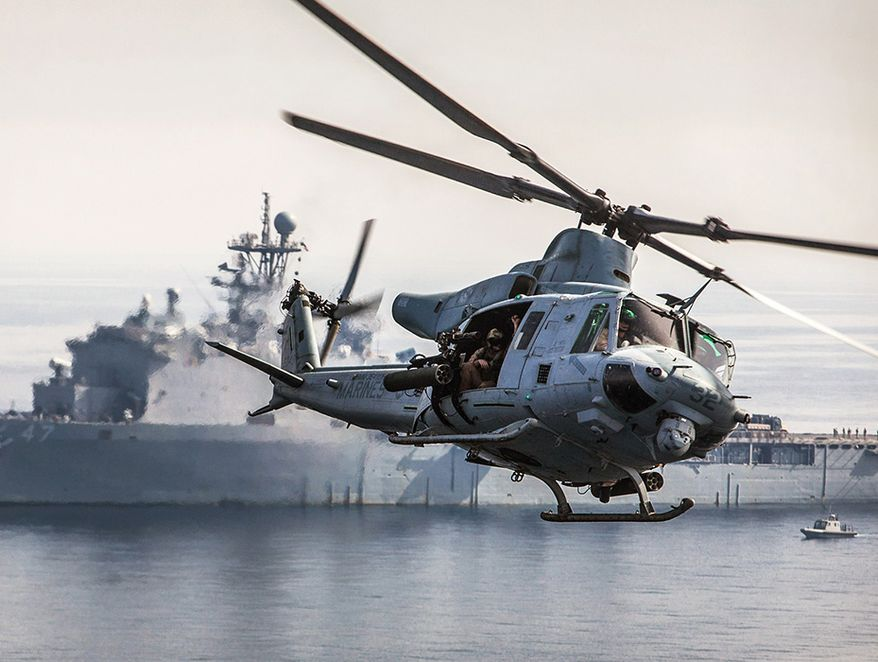MilitaryHelicopter: (199, 127, 784, 541)
